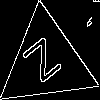Z: (21, 37, 70, 92)
